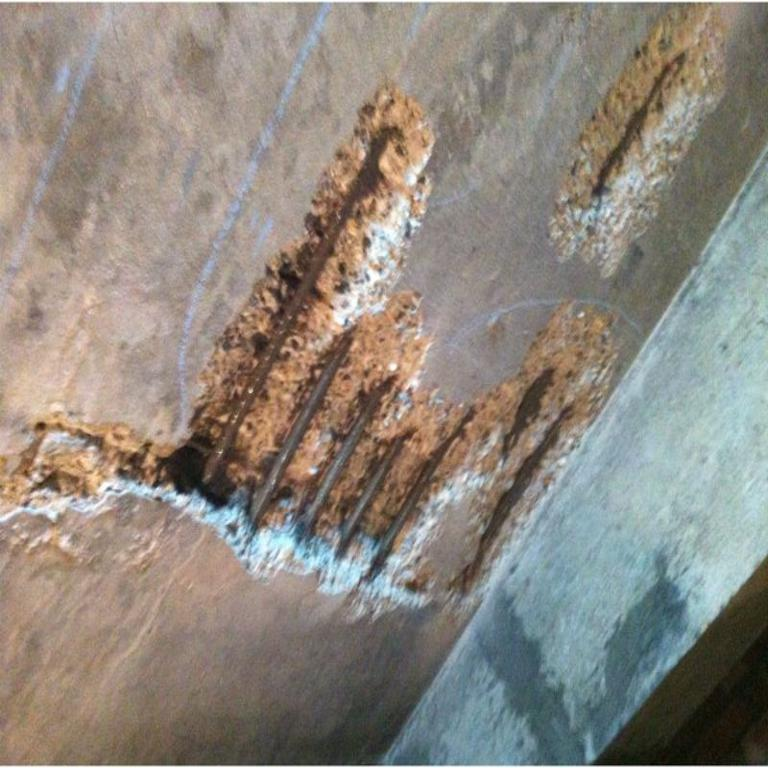exposed_rebar: (204, 135, 386, 481), (249, 330, 352, 523), (364, 408, 471, 580), (460, 416, 562, 583), (592, 54, 682, 196), (298, 387, 380, 536), (336, 436, 405, 555), (502, 369, 552, 452)
spalling: (0, 86, 618, 614), (549, 6, 728, 277)
